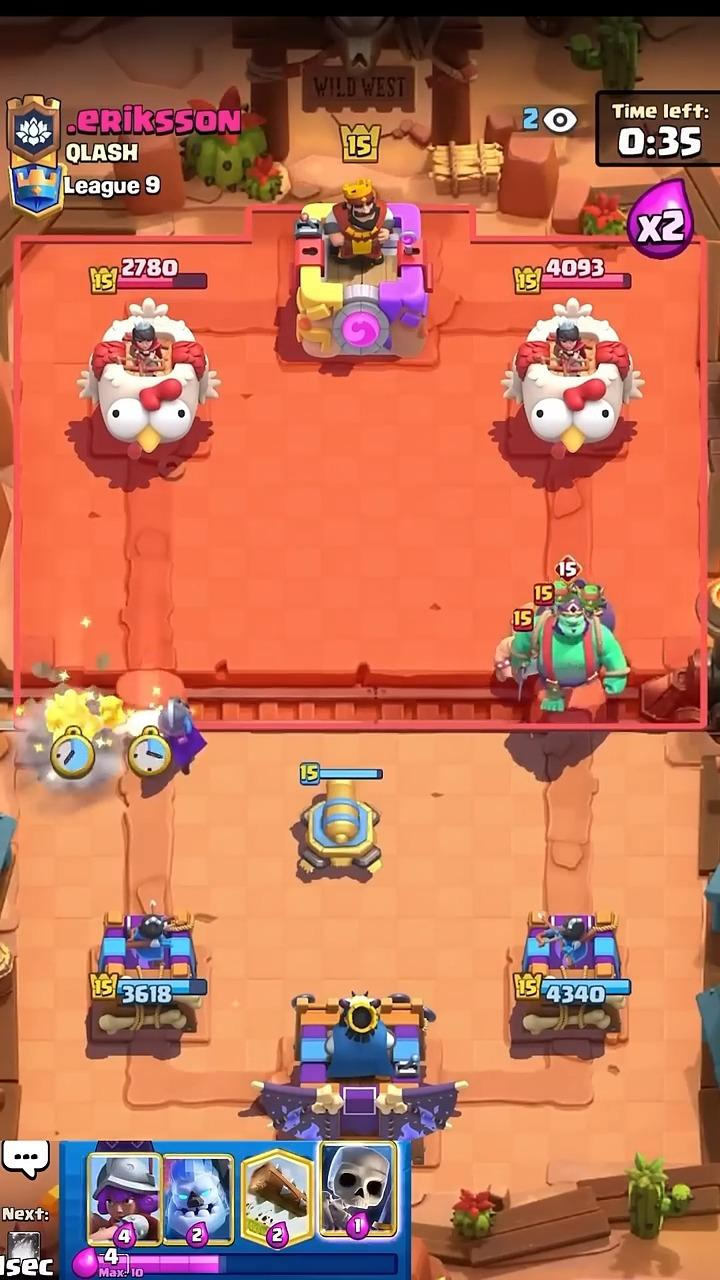cannon: (298, 770, 381, 877)
elite barbarians: (494, 637, 510, 682)
goblin giant: (506, 579, 629, 714)
hog rider: (45, 690, 127, 740)
ice spirit: (114, 709, 159, 736)
musketeer: (157, 697, 205, 773)
